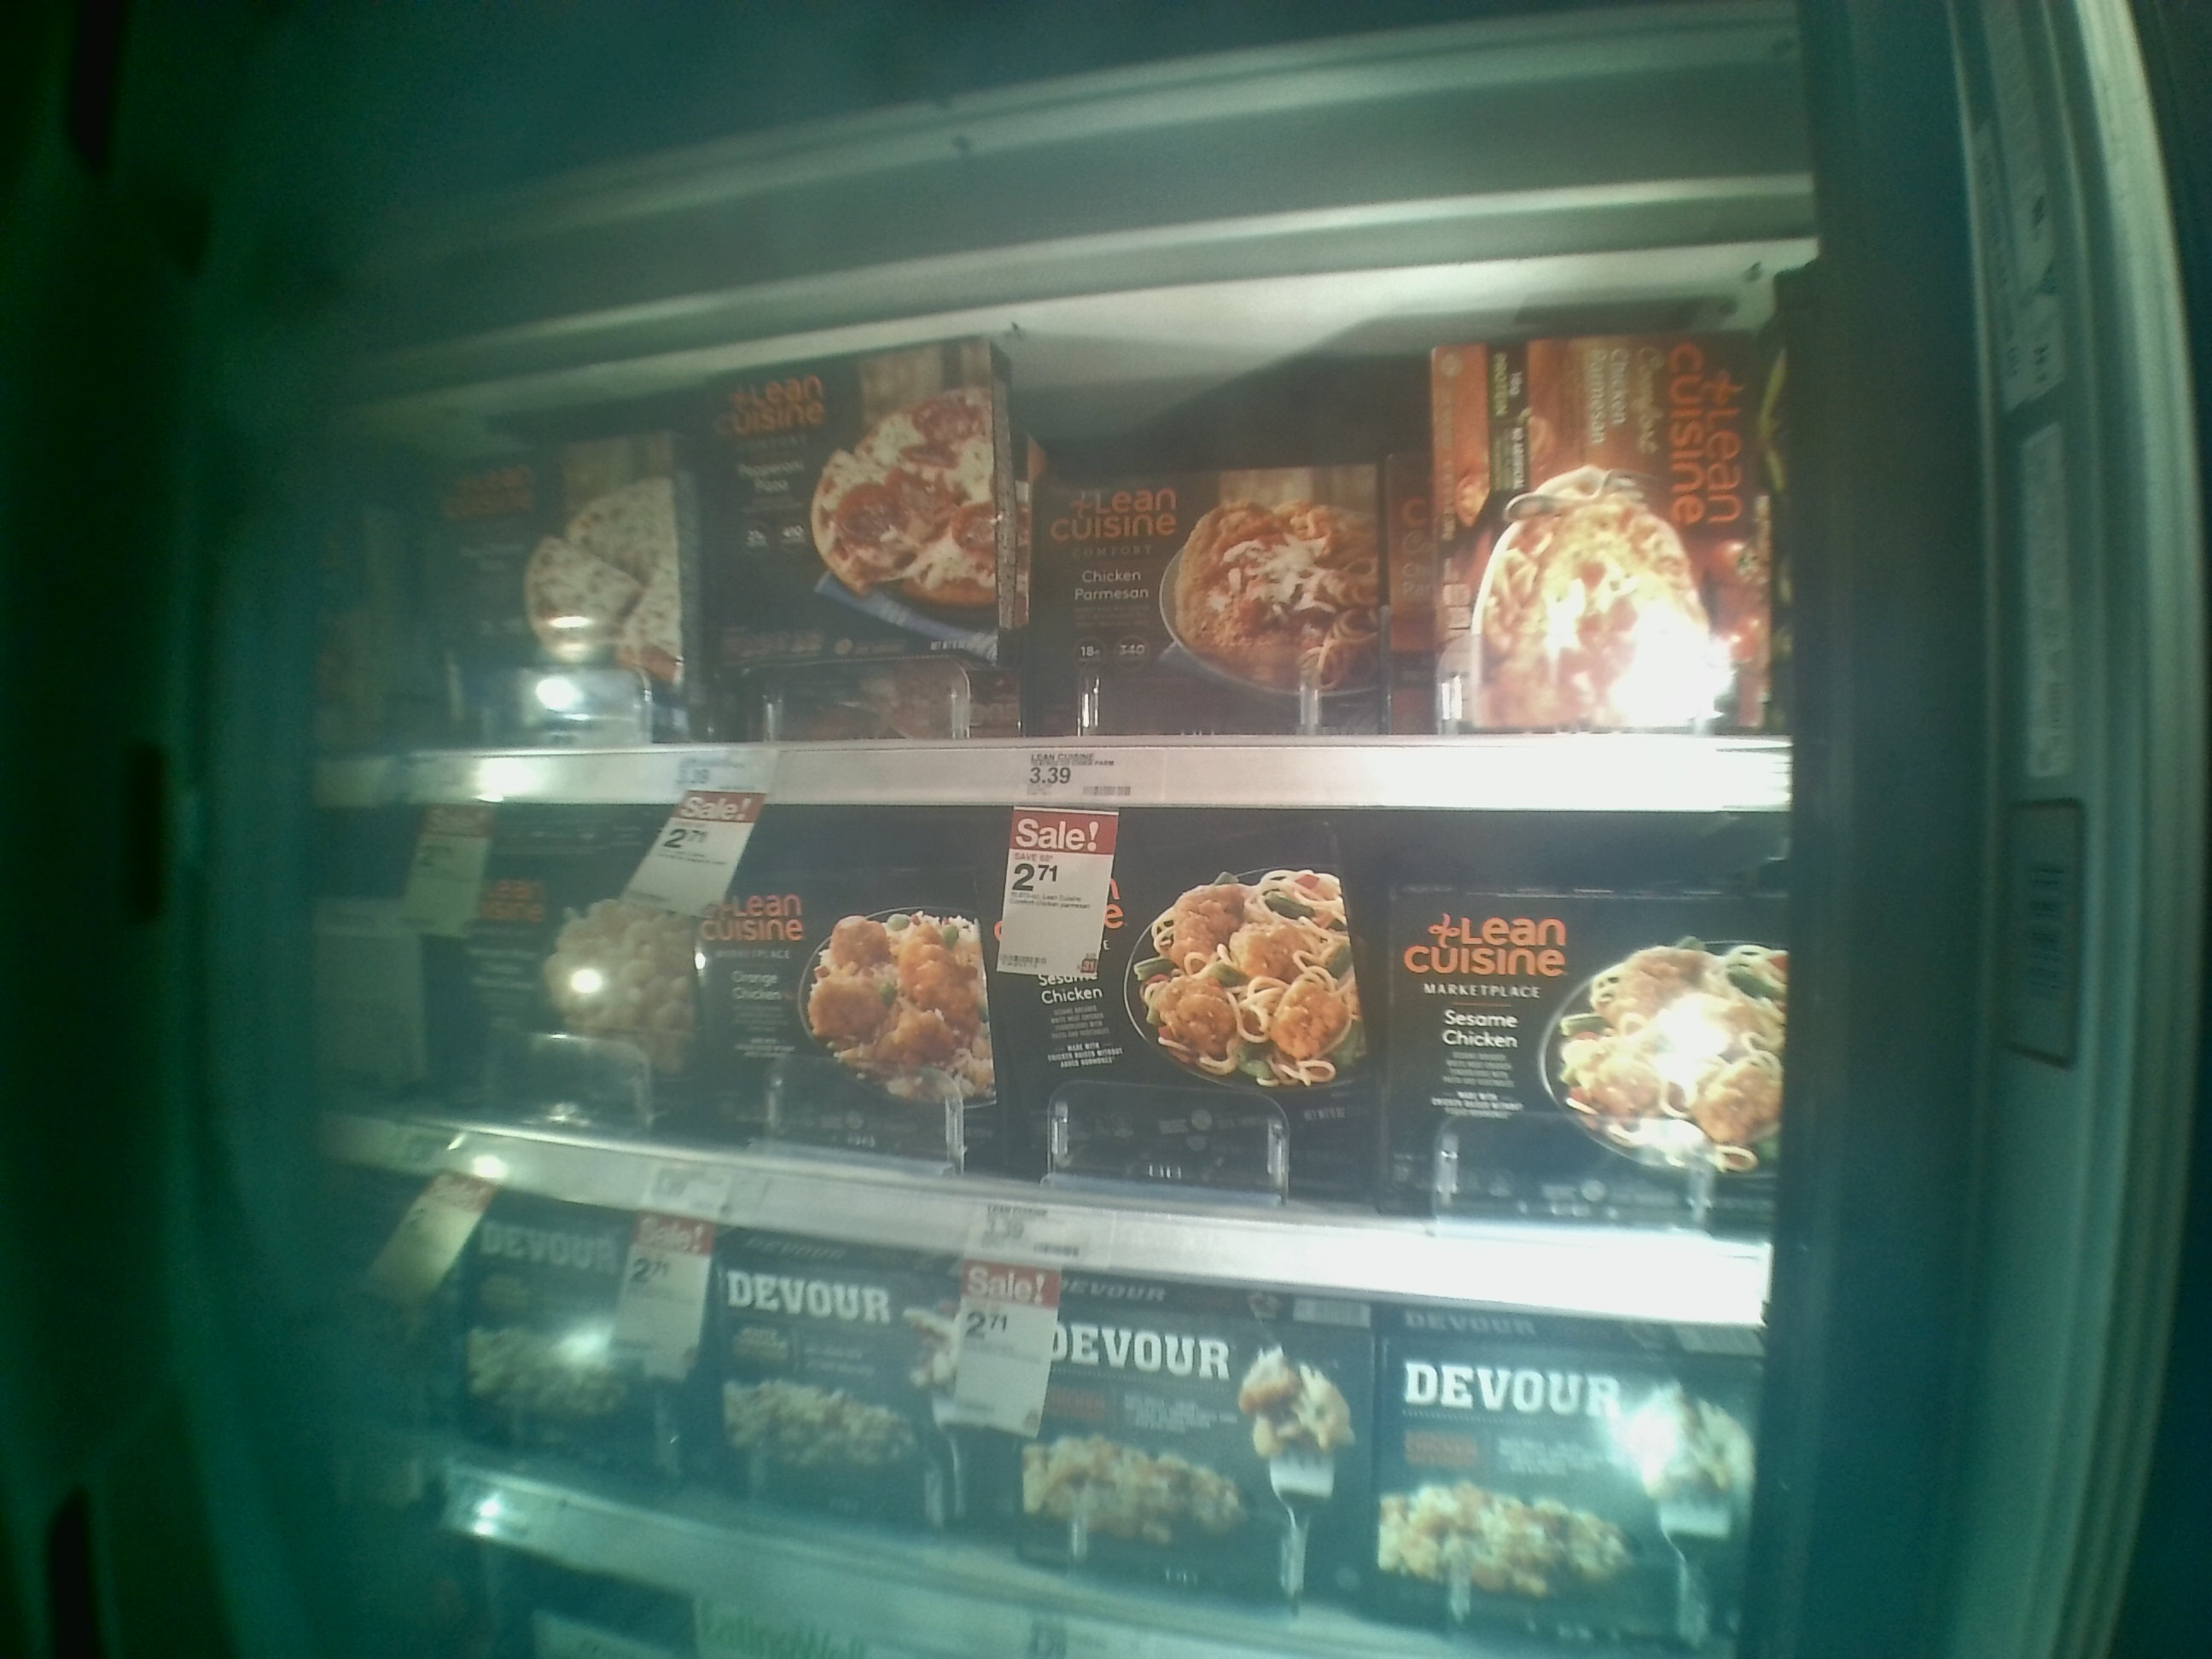shelf: (320, 284, 1789, 814), (329, 809, 1782, 1326)
